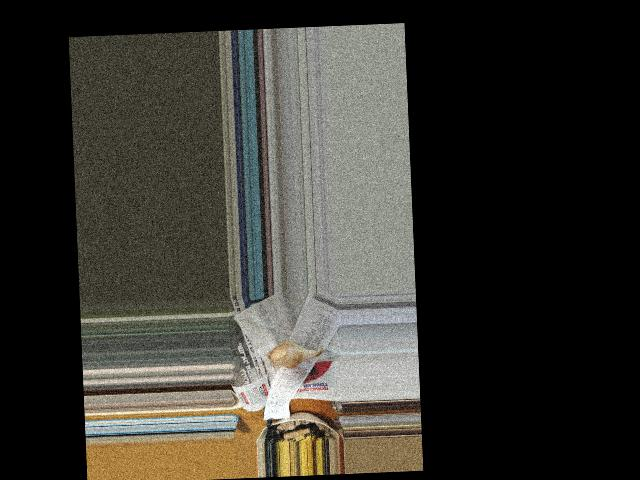onion: (269, 343, 305, 368)
